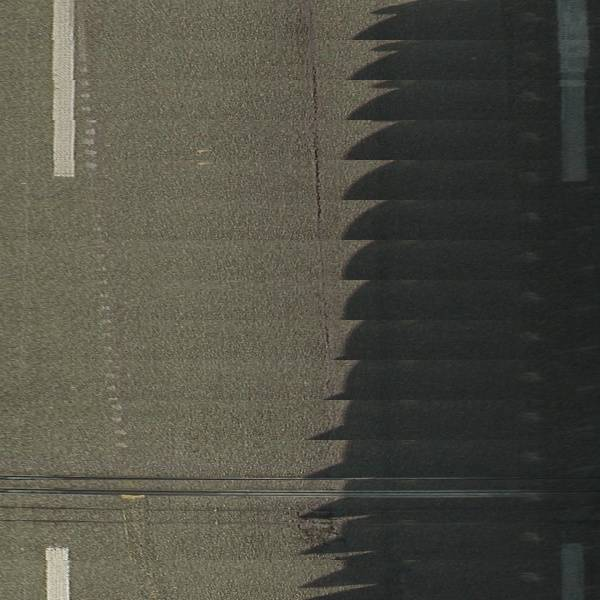road_damage: (1, 485, 548, 500), (305, 56, 329, 261)
